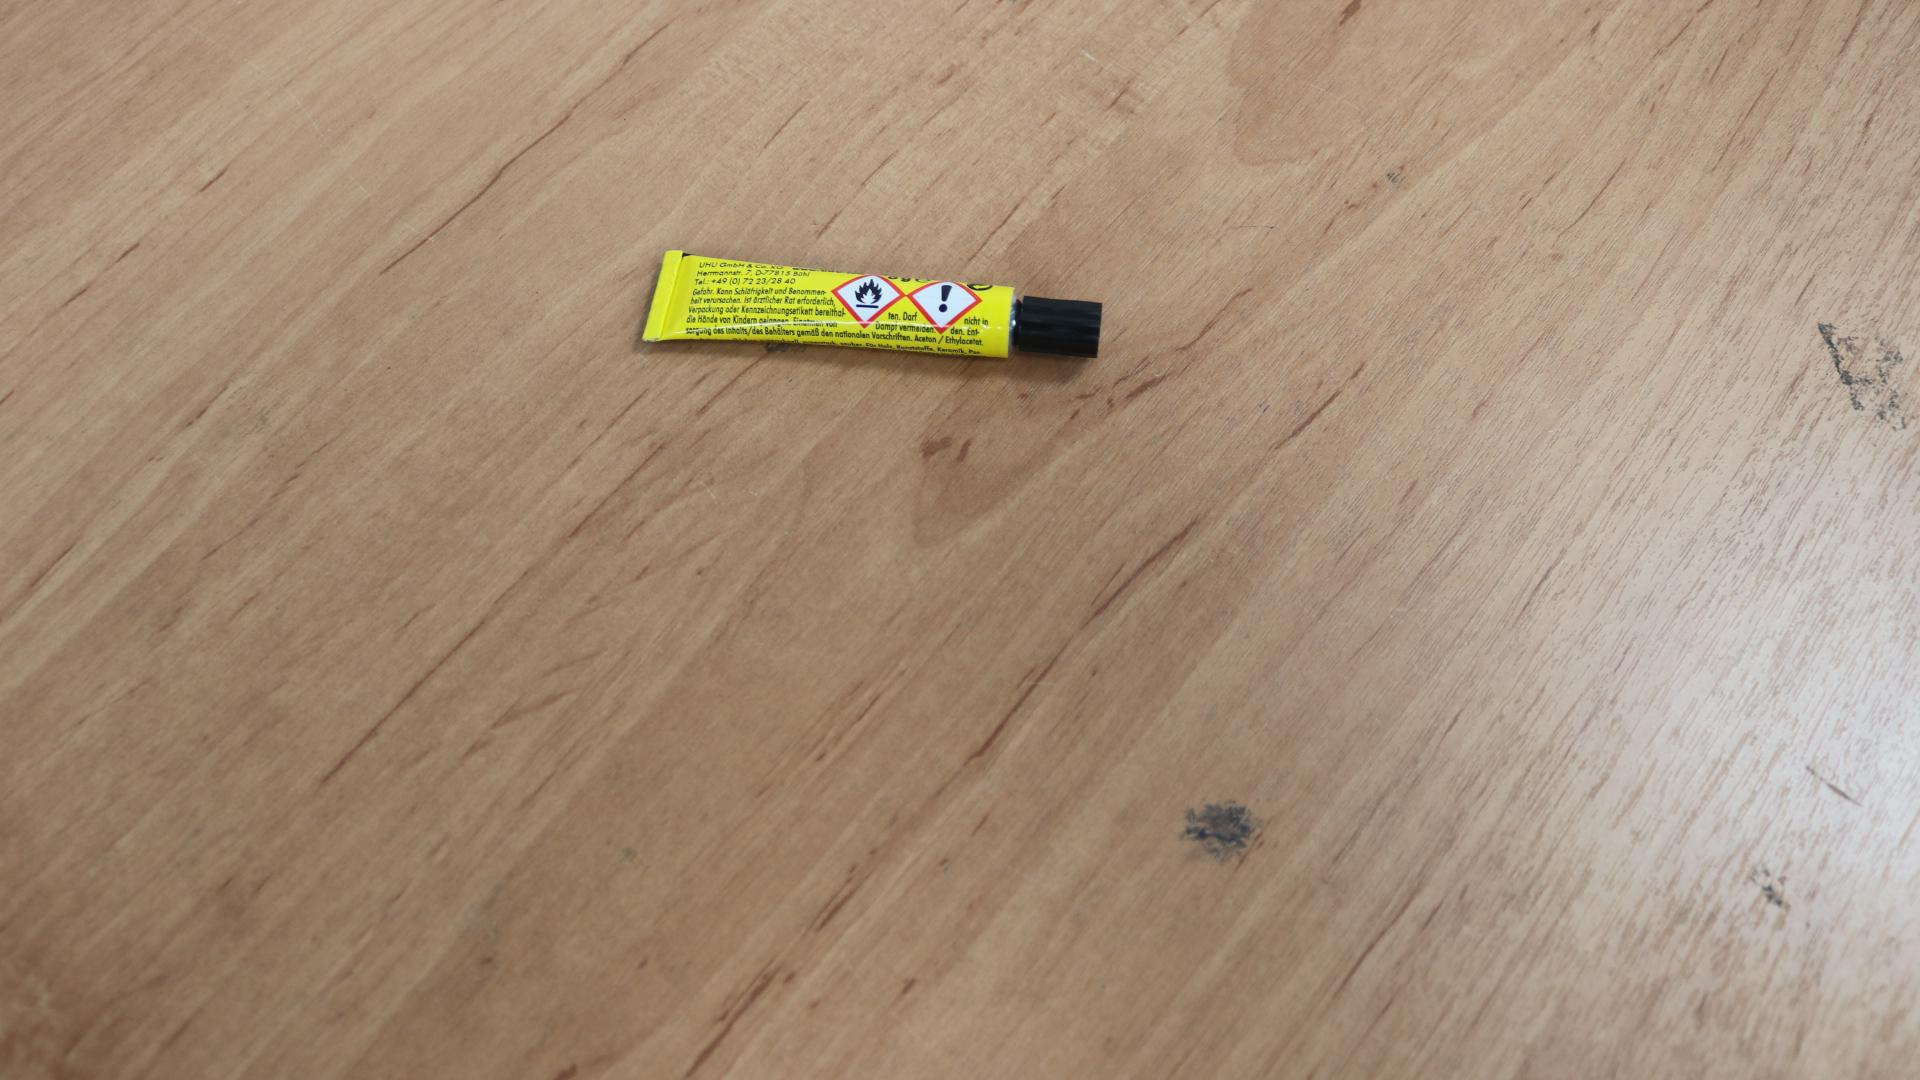Head: (1053, 318, 1066, 330)
Tail: (658, 289, 670, 300)
Tube: (642, 249, 1103, 360)
